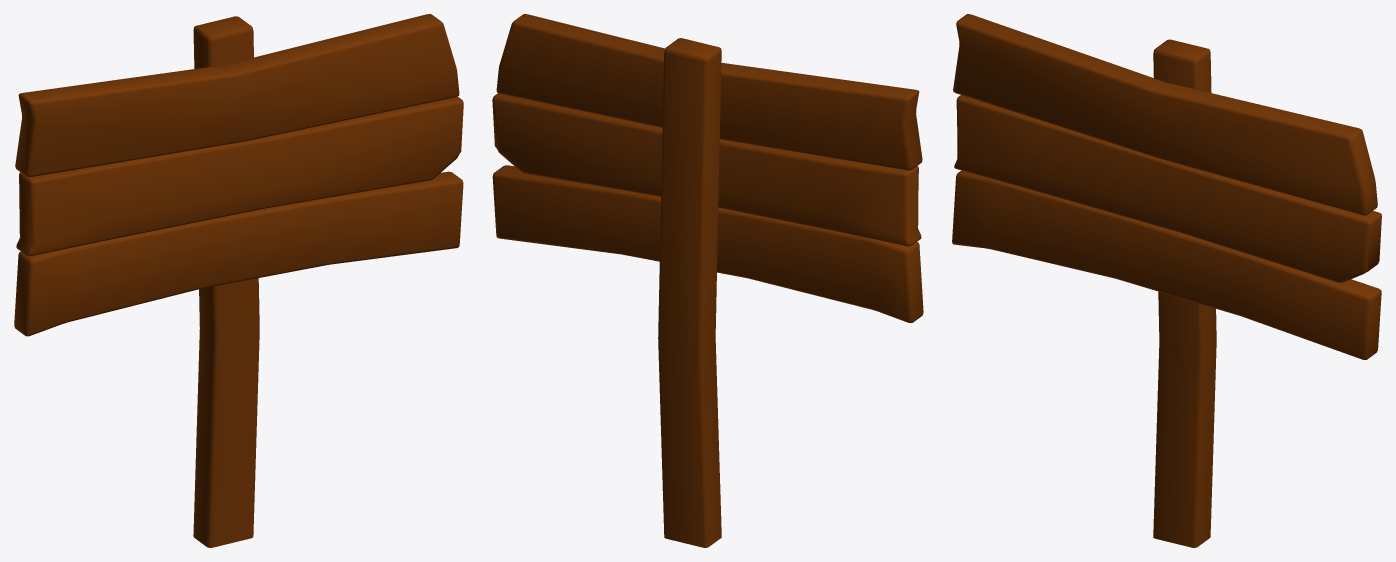
File: Cartel_Bueno.fbx
3 views of the same model, side by side, from view 1: azimuth 30°, elevation 25°; view 2: azimuth 150°, elevation 25°; view 3: azimuth 330°, elevation 25° (orthographic). The views are drawn at different scales.
Parts seen in each view (by area): view 1: Object020; view 2: Object020; view 3: Object020.
Boxes of the visible parts, left/top/right/bottom form: Object020: left=14, top=14, right=463, bottom=547; Object020: left=492, top=14, right=923, bottom=547; Object020: left=952, top=14, right=1381, bottom=547.
Bounding box in the file's own units: 89.86 × 100 × 11.08.
